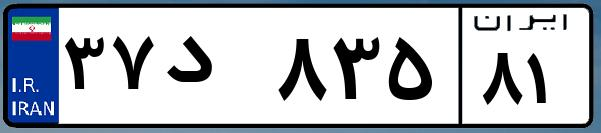1: (525, 38, 570, 115)
3: (330, 28, 385, 110), (57, 26, 110, 100)
5: (385, 28, 445, 110)
7: (110, 28, 158, 98)
8: (270, 28, 330, 110), (475, 38, 525, 113)
د: (158, 20, 270, 120)
